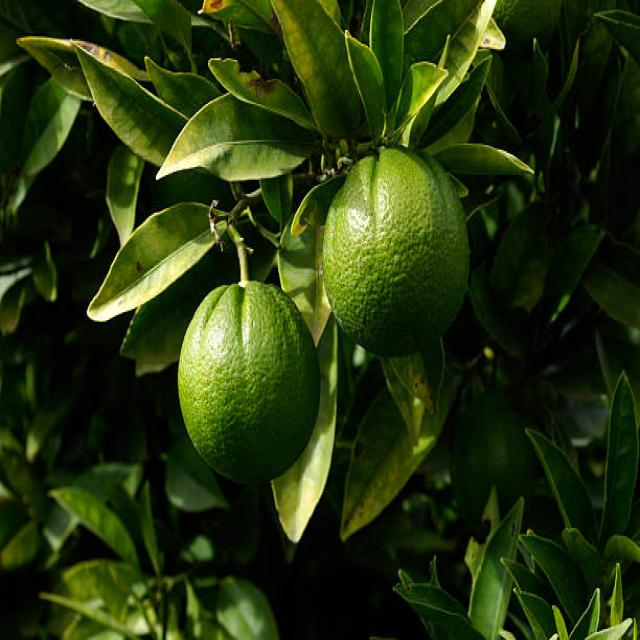Unripe: (320, 142, 473, 358), (178, 280, 320, 489)
